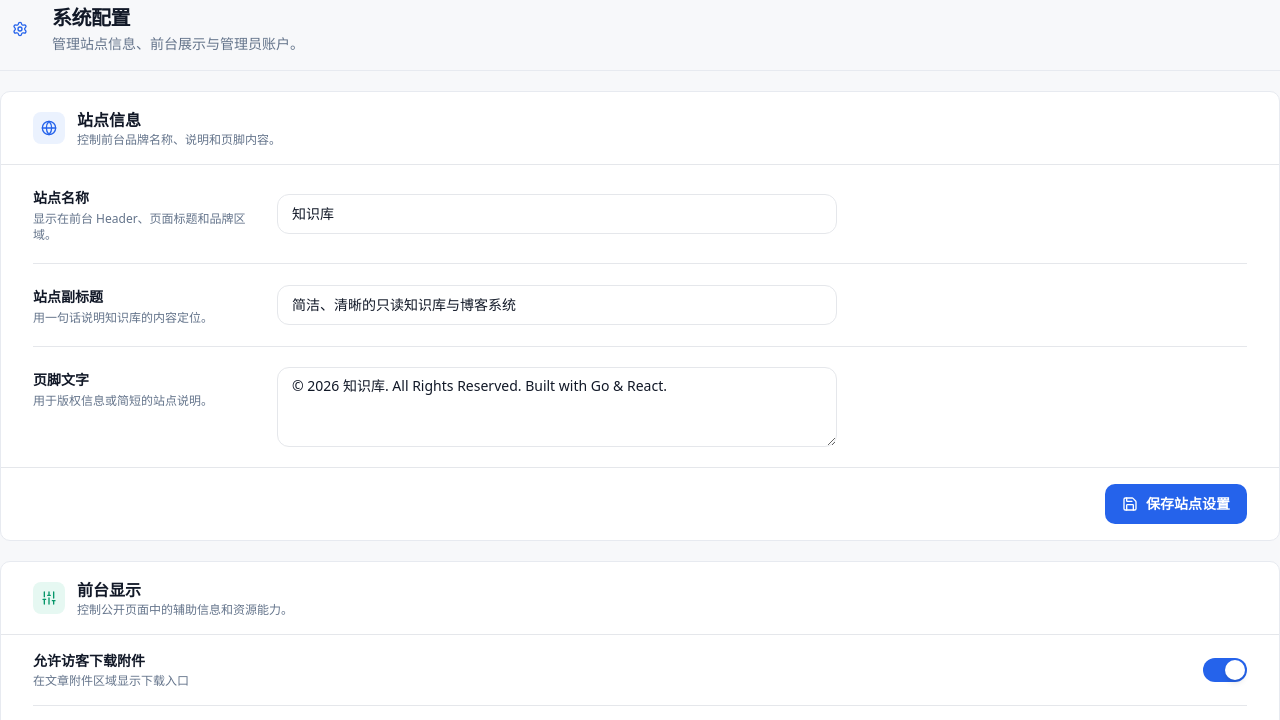
AdminSettingsPage › saves settings without invalidating the removed public site cache
Click the button "保存站点设置".
click(1176, 504)  # box x1=1105 y1=484 x2=1247 y2=524
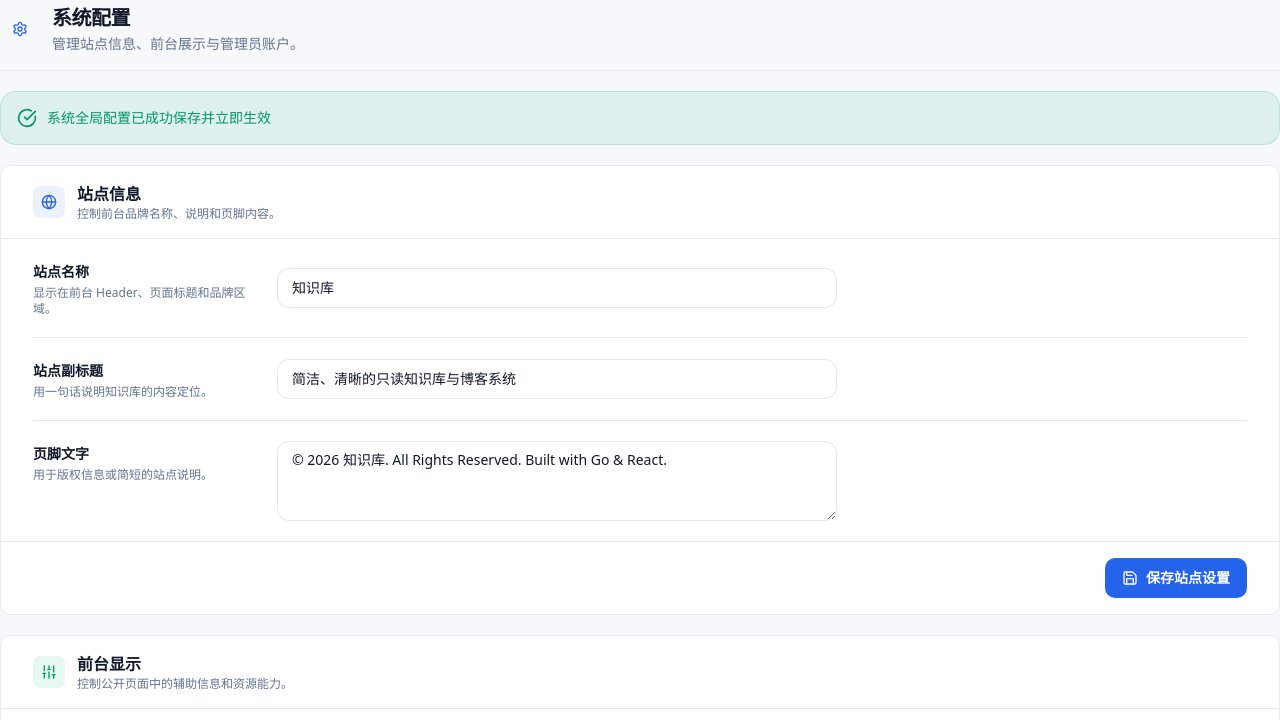
expect the message reads "系统全局配置已成功保存并立即生效": met, box x1=47 y1=108 x2=271 y2=127
